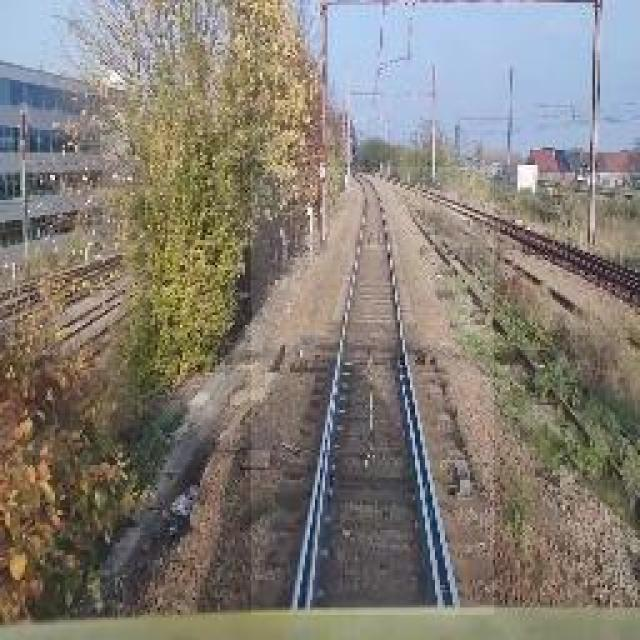rail: (252, 169, 495, 616)
